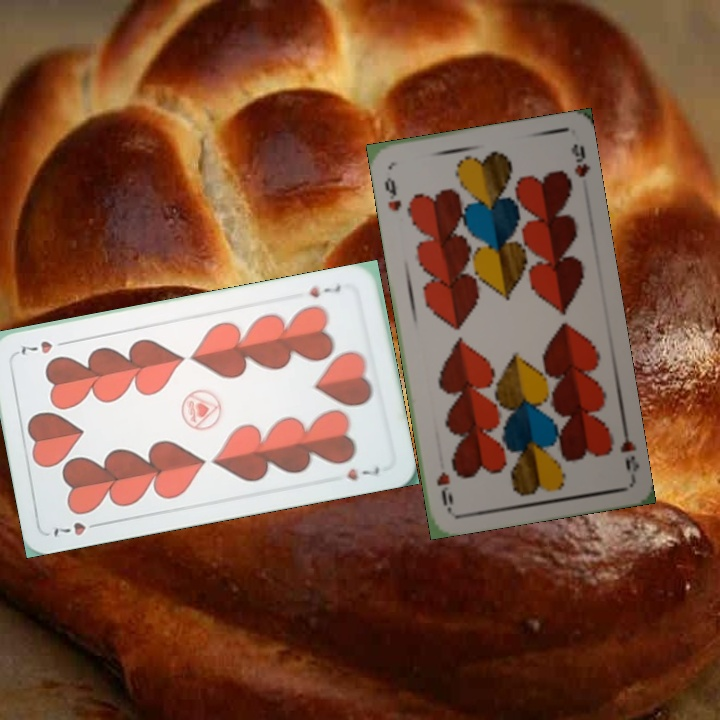H7: (49, 518, 106, 539), (305, 280, 343, 301)
H9: (616, 421, 642, 475), (380, 173, 404, 214)
